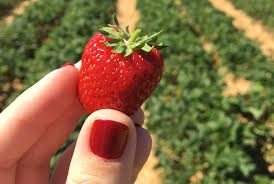ripe: (72, 27, 168, 126)
